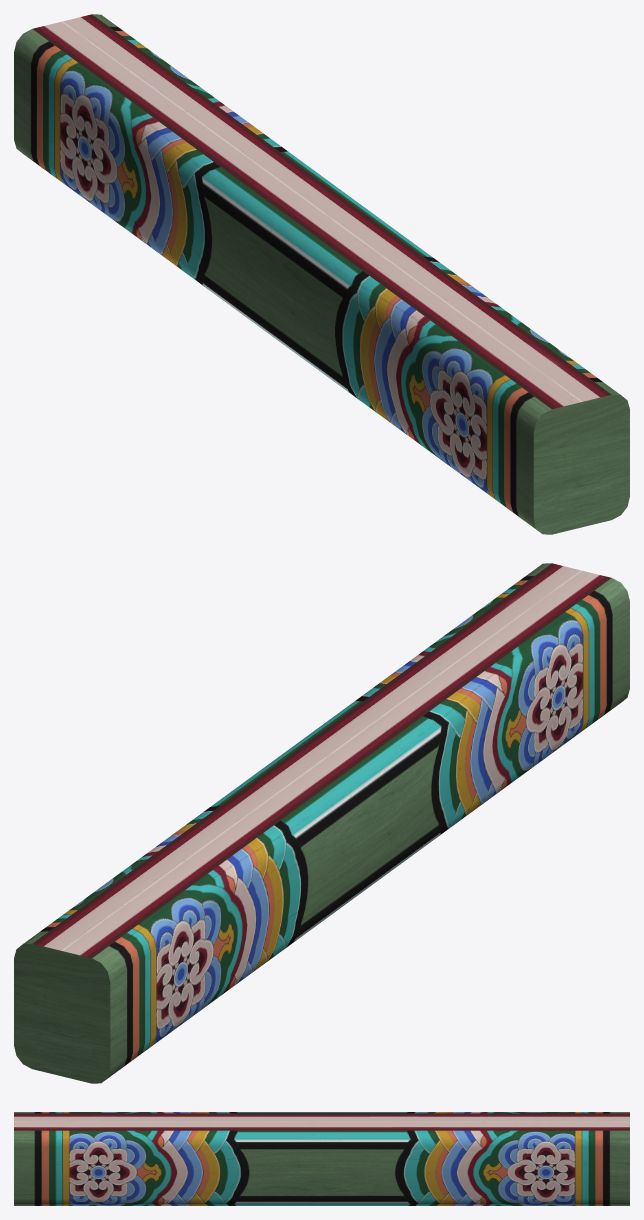
File: SM_SJM_ChangBangB_01.fbx
The picture shows the model from 3 angles, top to bottom: view 1: azimuth 30°, elevation 25°; view 2: azimuth 150°, elevation 25°; view 3: azimuth 270°, elevation 25°; orthographic projection. The views are drawn at different scales.
Parts seen in each view (by area): view 1: SM_SJM_ChangBangB_01; view 2: SM_SJM_ChangBangB_01; view 3: SM_SJM_ChangBangB_01.
Boxes of the visible parts, left/top/right/bottom form: SM_SJM_ChangBangB_01: left=14, top=14, right=629, bottom=534; SM_SJM_ChangBangB_01: left=14, top=563, right=629, bottom=1083; SM_SJM_ChangBangB_01: left=14, top=1112, right=629, bottom=1205.
Size of the model in its own units: 26.5 by 248 by 33.
Materials: 1 (1 with a texture image).
